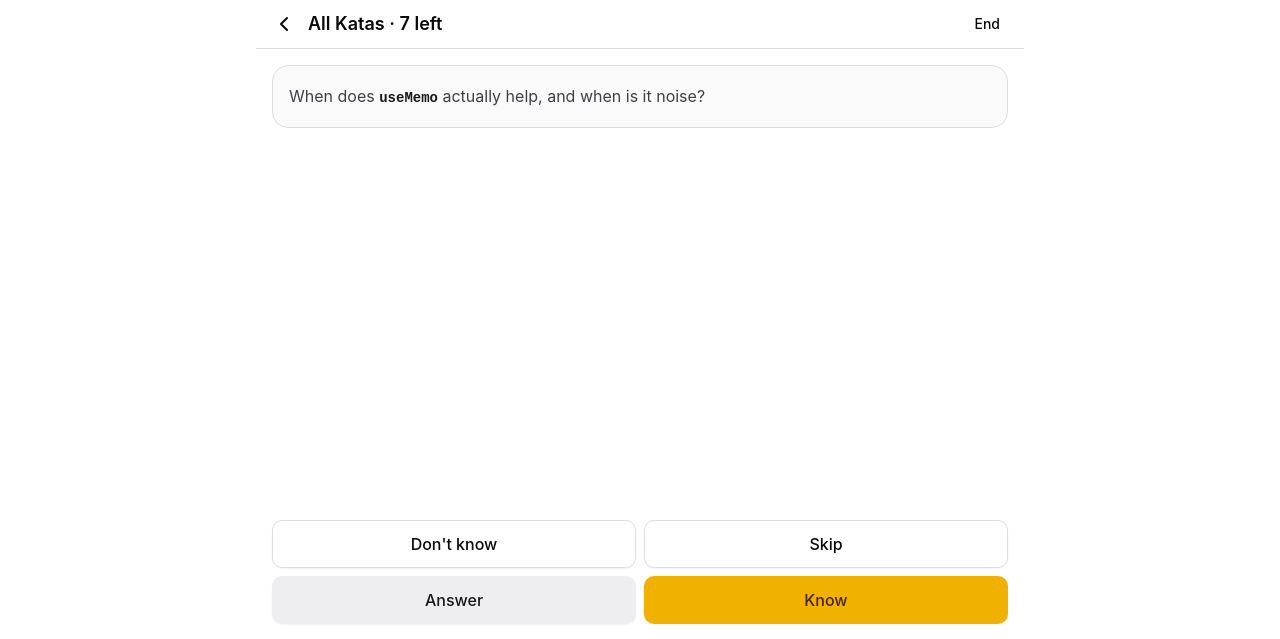
Test: Training › ends early and commits the revealed Result
Expected: the heading "All Katas · 7 left" is shown, [308,13,442,34]
Click the button "Know": point(826, 600) [644,576,1008,624]
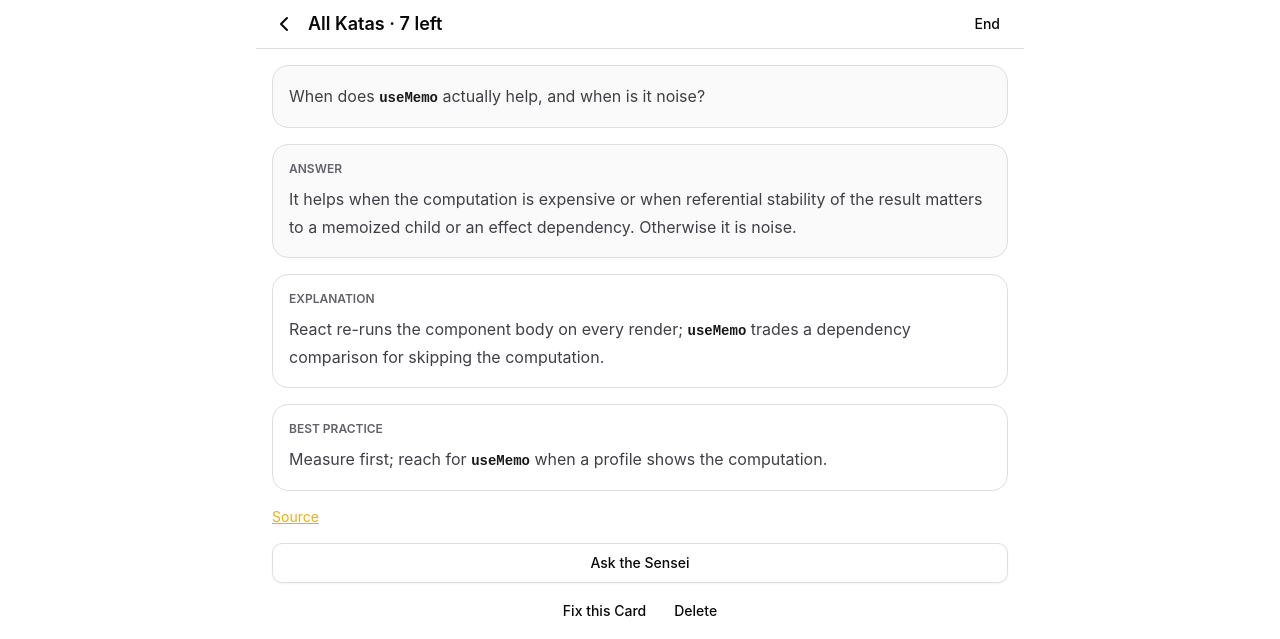
Click the button "End": point(987, 24) [962,8,1012,40]
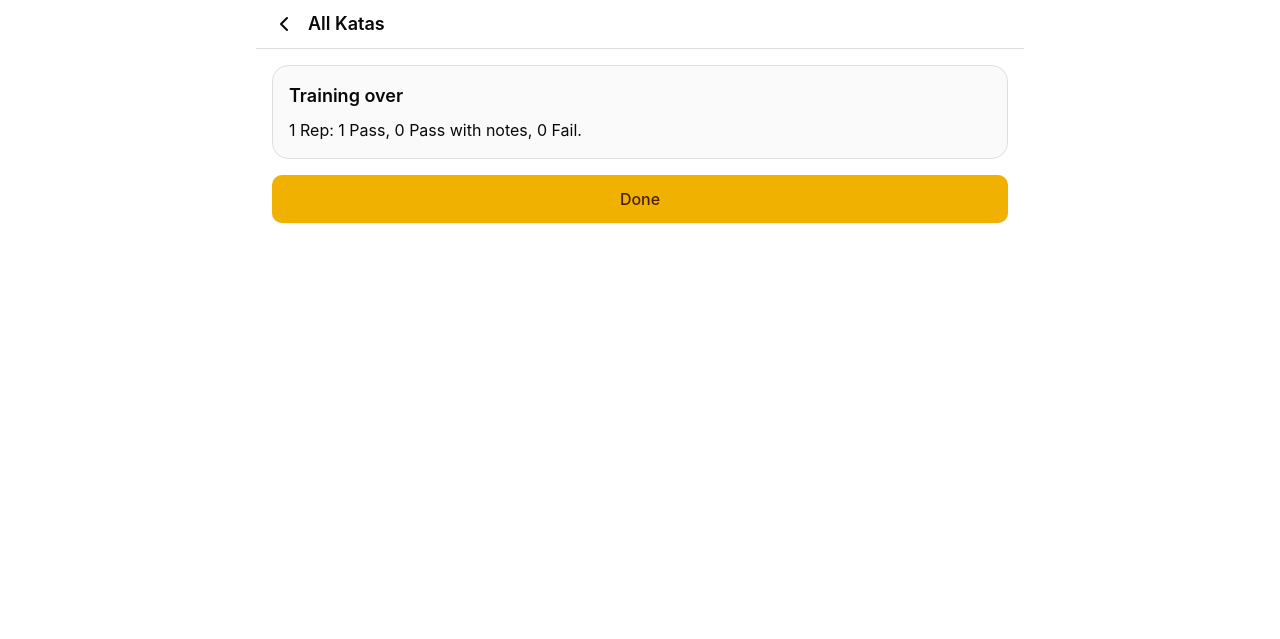
Now the element named "Training summary" shows "1 Rep: 1 Pass", box [272,65,1008,159]
